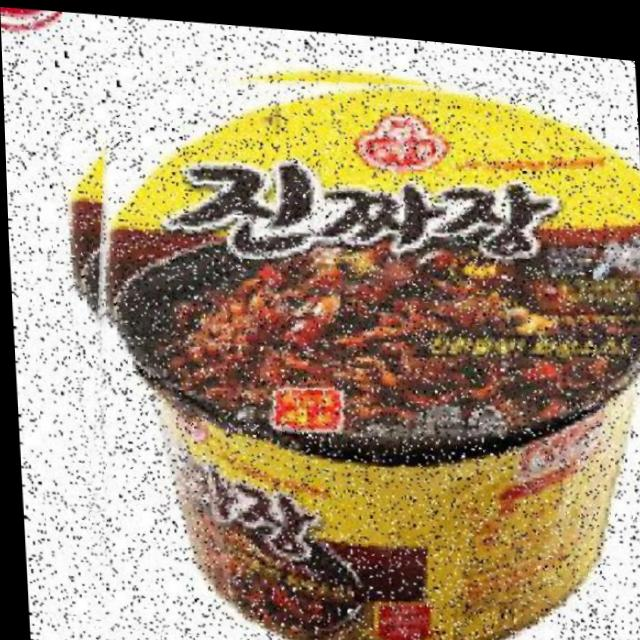Miscellaneous: (51, 31, 640, 640)
